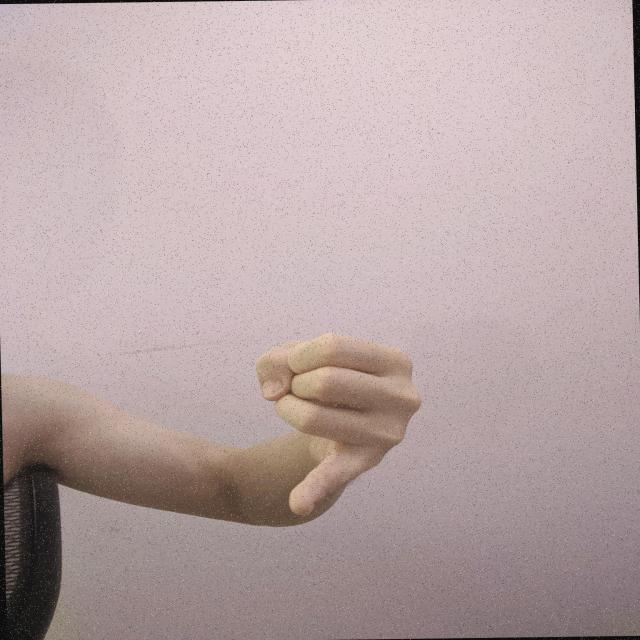J: (244, 325, 438, 526)
